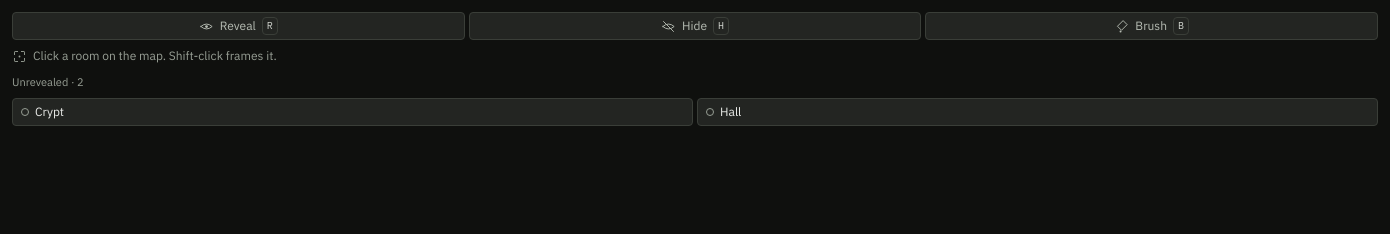
Test: FogTool — the tool row › swaps the room grid for the brush controls while armed, same height budget
Expected: the element with test id "fog-rooms" is shown, [12, 72, 1378, 126]
Click the button with test id "fog-brush". click: (1152, 26)
box: [925, 12, 1378, 40]
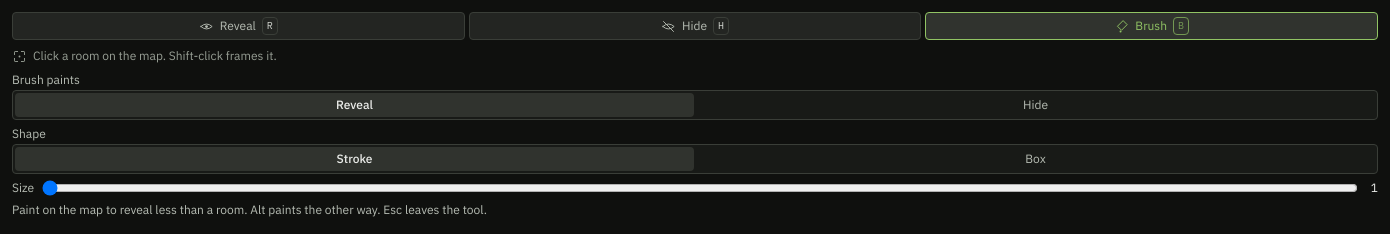
Now the element with test id "fog-brush-op" is shown, box [12, 90, 1378, 120]
Now the element with test id "fog-brush-shape" is shown, box [12, 144, 1378, 174]
Now the slider with test id "fog-brush-size" is shown, box [42, 180, 1358, 196]
Click the radio button labelled "Box". click: (1036, 159)
box: [696, 147, 1375, 171]
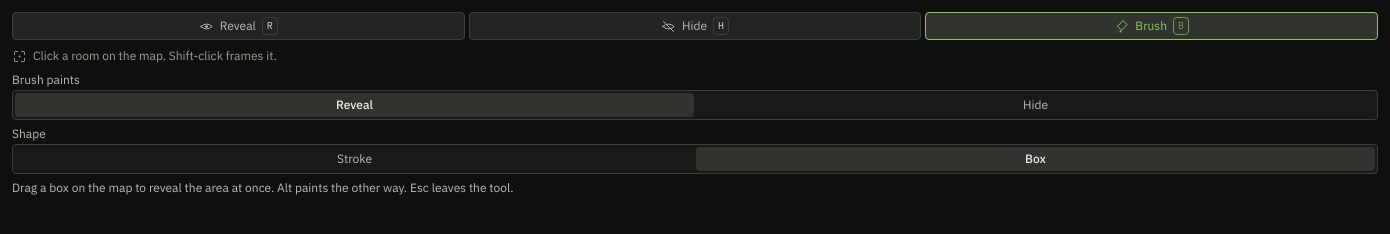
Now the slider with test id "fog-brush-size" is gone
Click the button with test id "fog-brush". click: (1152, 26)
box: [925, 12, 1378, 40]
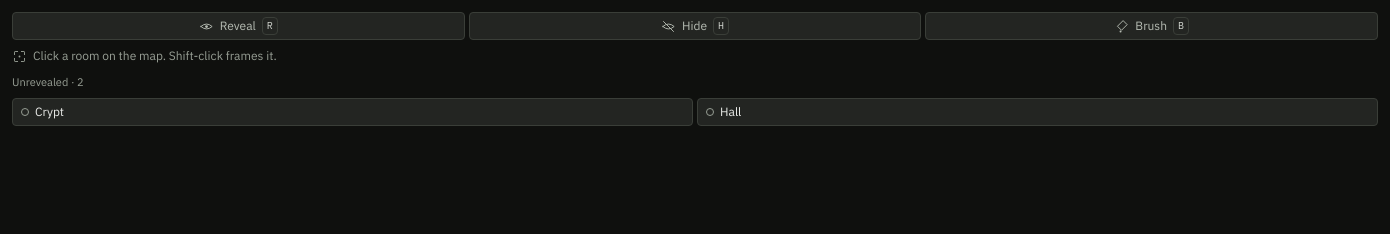
Now the element with test id "fog-rooms" is shown, box [12, 72, 1378, 126]
